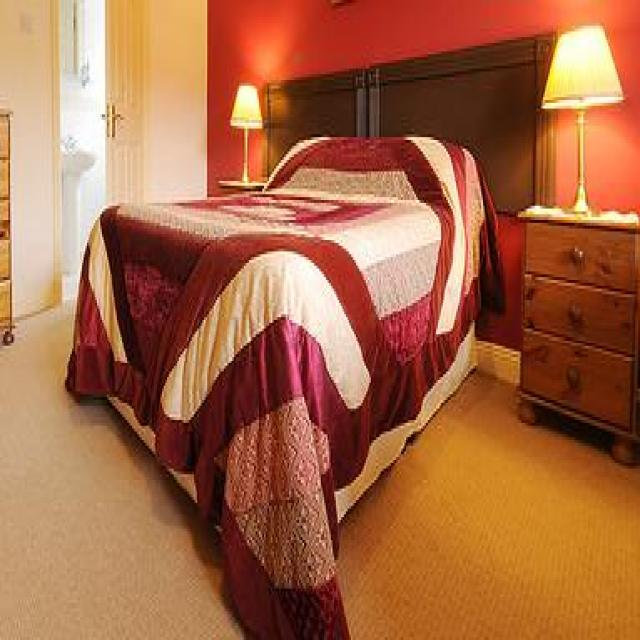bed: (64, 29, 556, 637)
